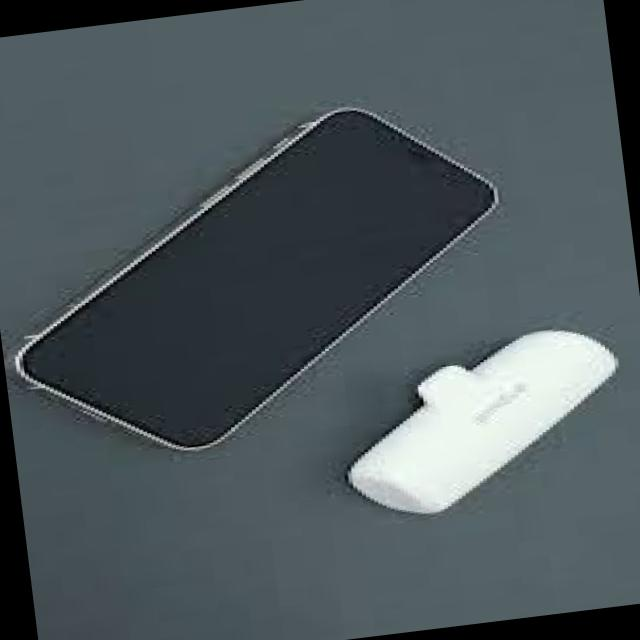portable-charger: (316, 326, 634, 528)
